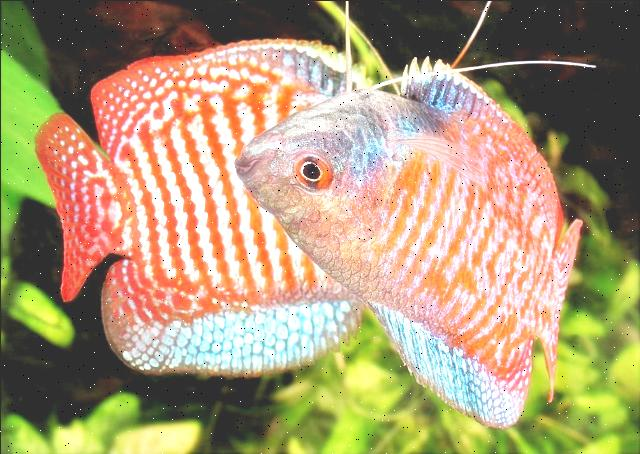Mulut: (212, 118, 302, 208)
Sirip Dada: (380, 109, 498, 191)
Sirip Ekor: (22, 104, 126, 318), (528, 178, 594, 418)
Sirip Punggung: (86, 27, 380, 165), (79, 248, 359, 386), (358, 306, 538, 444), (390, 38, 548, 180)
